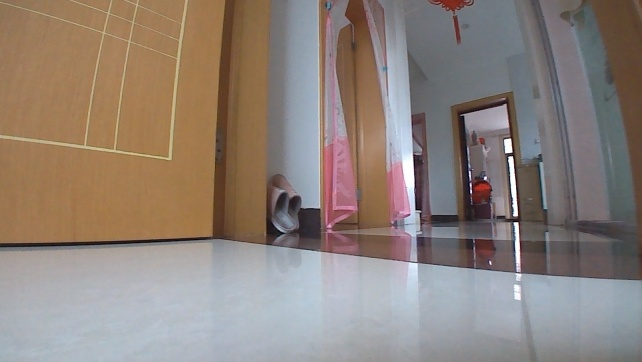door_anno: (0, 0, 270, 247)
shoe: (264, 172, 303, 234)
